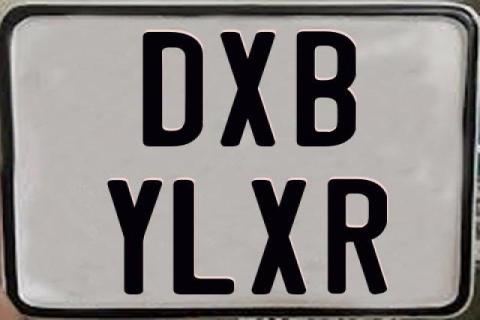B: (293, 29, 353, 148)
D: (140, 32, 201, 151)
L: (173, 179, 234, 296)
R: (328, 177, 389, 297)
X: (218, 32, 274, 150), (248, 180, 305, 295)
Y: (106, 180, 161, 298)
